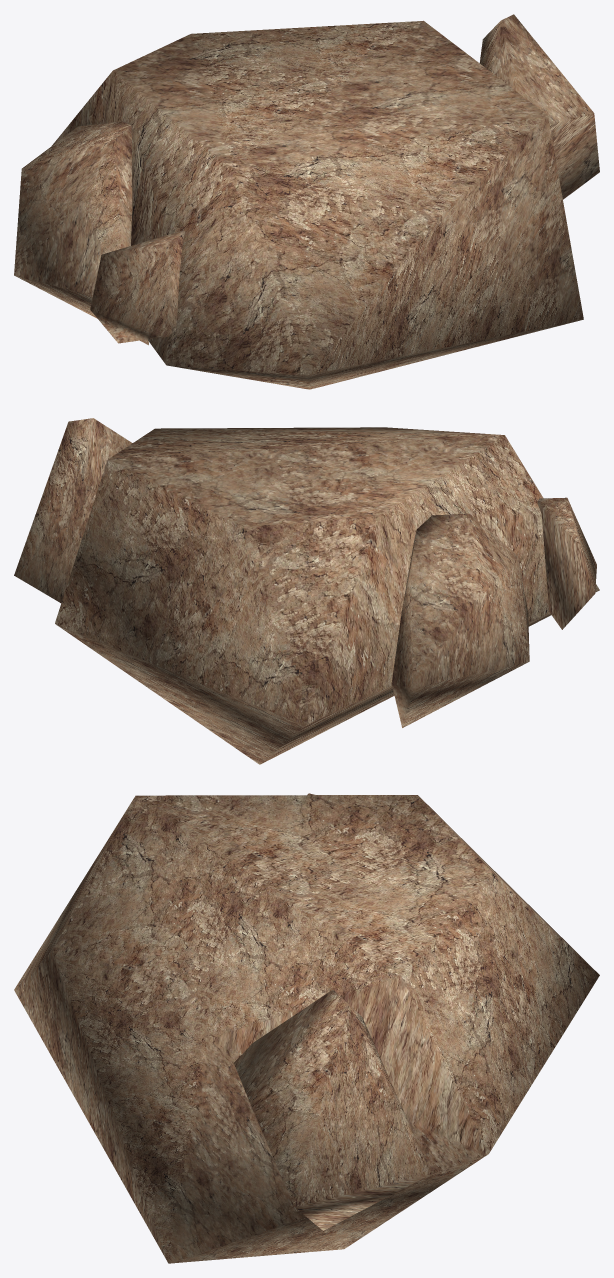
Rendered from rock_tatt_boulder_flat2_l3.fbx.
3 views of the same model, one above another, from view 1: azimuth 30°, elevation 25°; view 2: azimuth 150°, elevation 25°; view 3: azimuth 270°, elevation 25° (orthographic). The views are drawn at different scales.
Parts seen in each view (by area): view 1: mesh_node; view 2: mesh_node; view 3: mesh_node.
Part boxes in pixels (left/top/right/bottom): mesh_node: left=14, top=14, right=599, bottom=389; mesh_node: left=14, top=418, right=599, bottom=764; mesh_node: left=14, top=793, right=599, bottom=1263.
Size of the model in its own units: 6.44 by 3.66 by 5.3.
